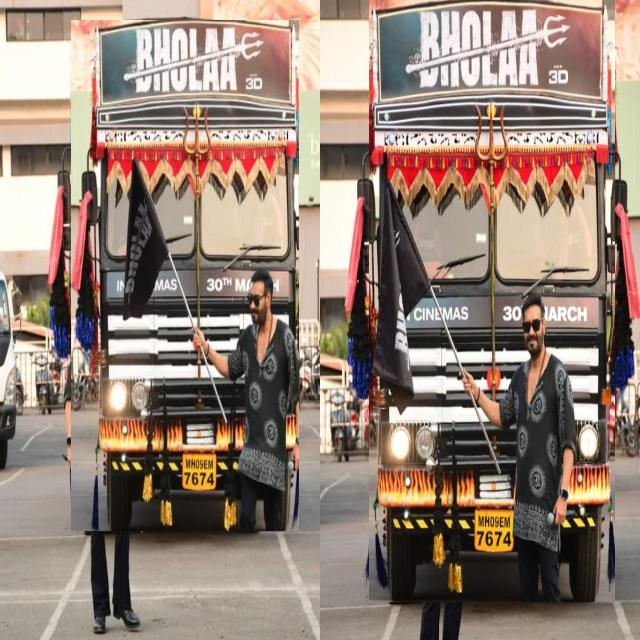truck: (369, 0, 615, 602), (71, 20, 299, 531)
